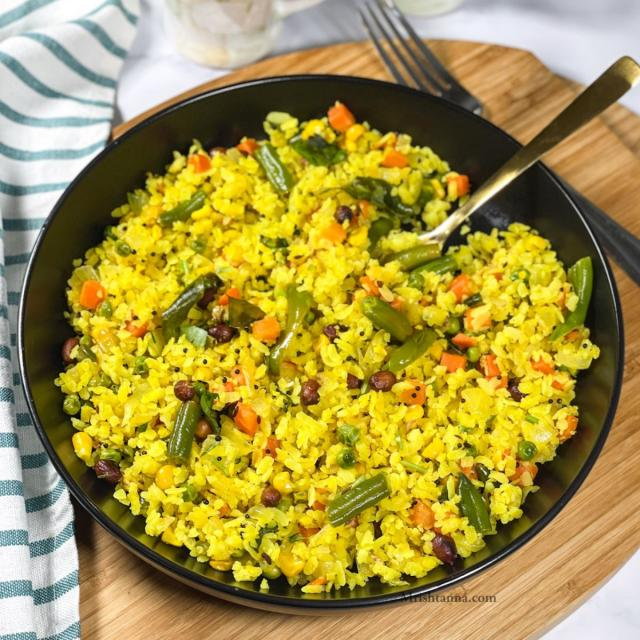POHA: (54, 102, 598, 590)
